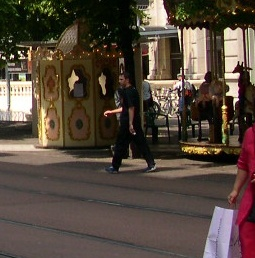person: (96, 70, 159, 174)
